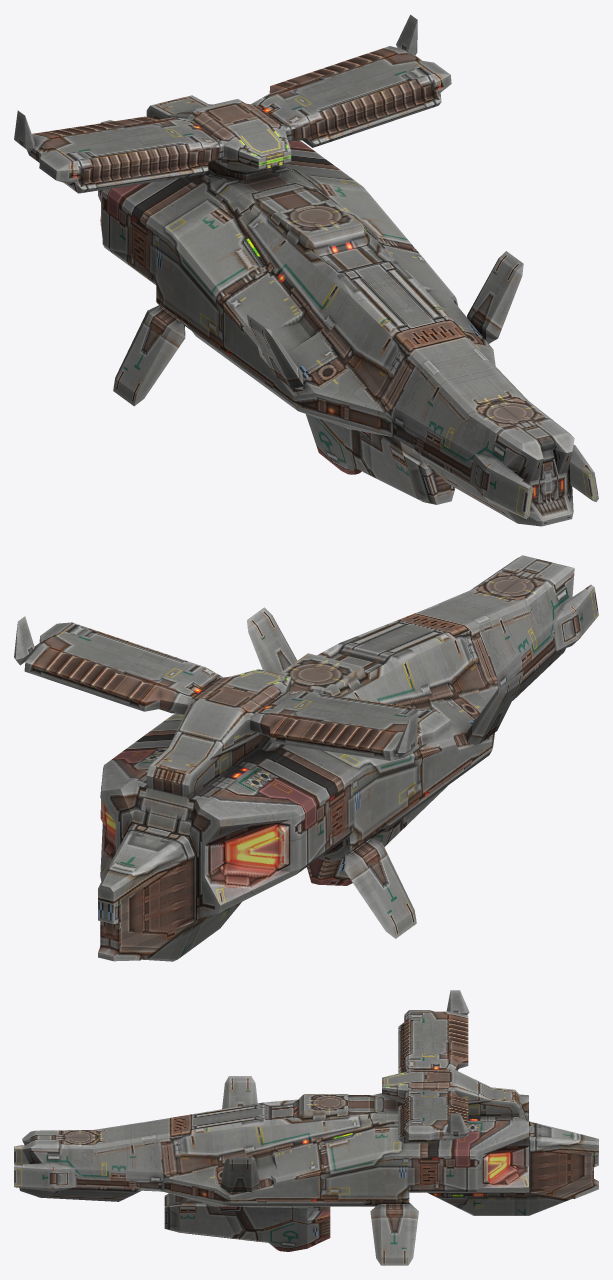
Rendered from template_EntityPlaceholder.glb.
The picture shows the model from 3 angles, top to bottom: view 1: azimuth 30°, elevation 25°; view 2: azimuth 150°, elevation 25°; view 3: azimuth 270°, elevation 25°; orthographic projection. The views are drawn at different scales.
Visible parts, largest first — view 1: tan_assault_fregate_LOD1; view 2: tan_assault_fregate_LOD1; view 3: tan_assault_fregate_LOD1.
Boxes of the visible parts, x1,y1,x2,y2 form: tan_assault_fregate_LOD1: (14, 14, 598, 526); tan_assault_fregate_LOD1: (14, 555, 598, 961); tan_assault_fregate_LOD1: (14, 990, 598, 1265).
Bounding box in the file's own units: 1.9 × 1.42 × 3.78.
Materials: 1 (1 with a texture image).
